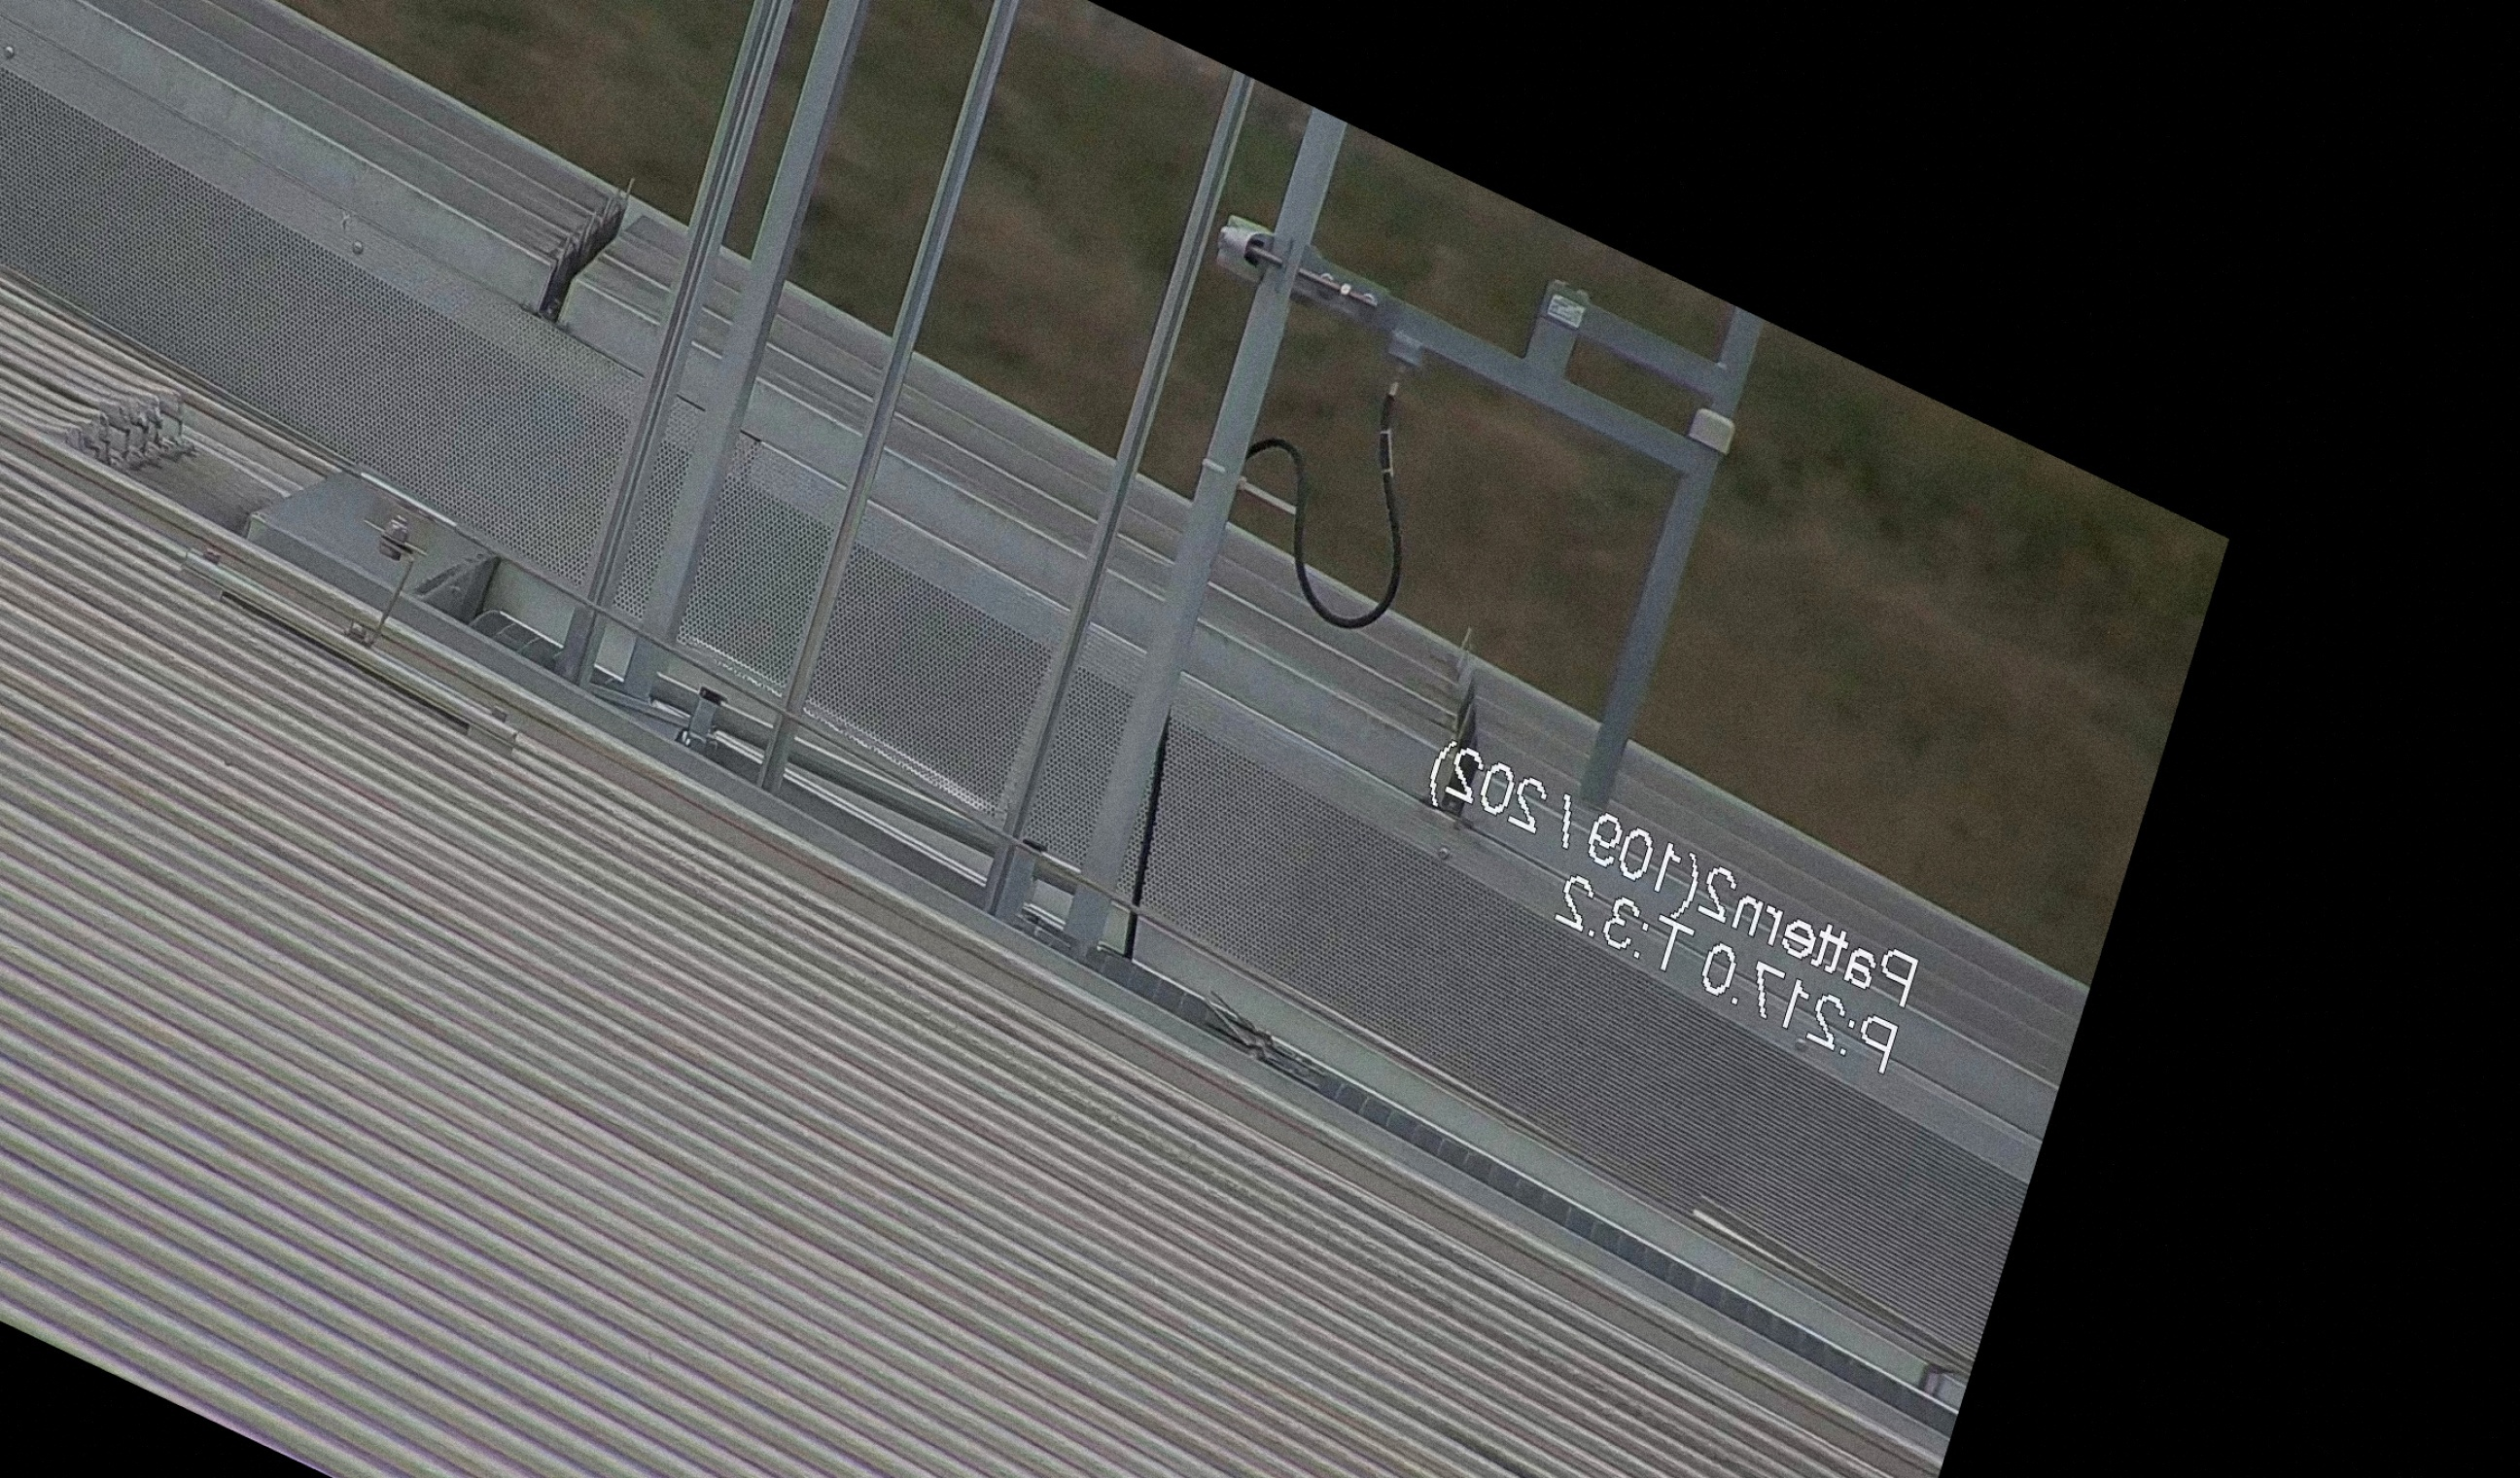Other: (512, 132, 665, 348)
